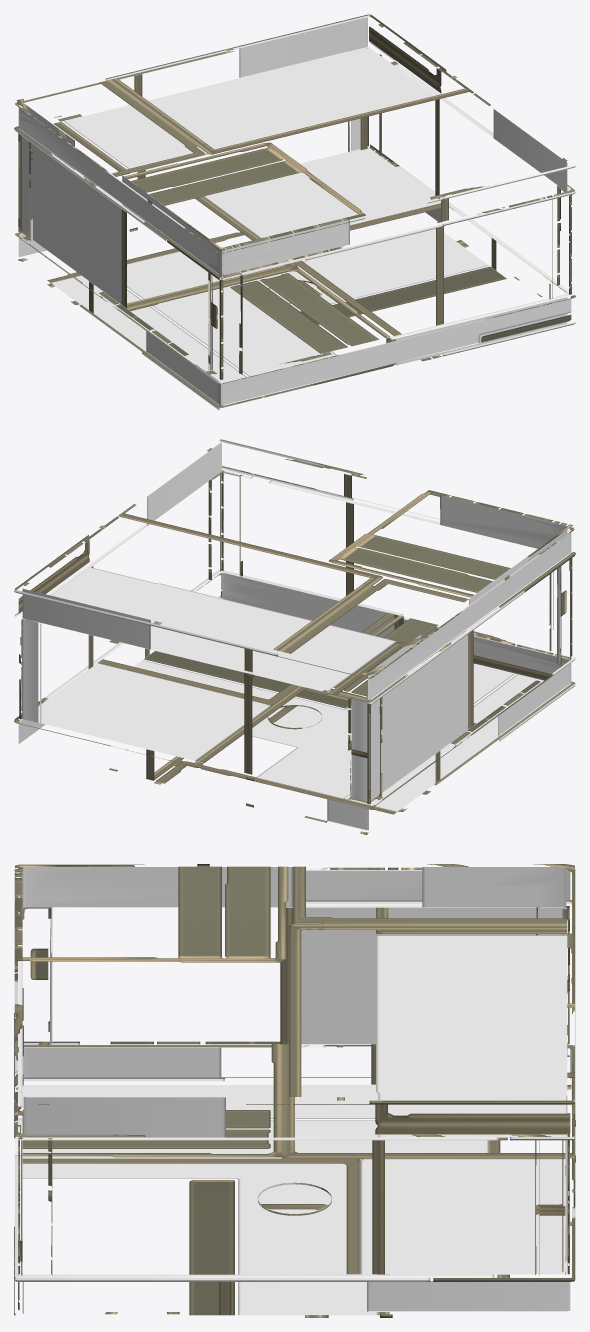
Rendered from raw_model.obj.
3 views of the same model, one above another, from view 1: azimuth 30°, elevation 25°; view 2: azimuth 150°, elevation 25°; view 3: azimuth 270°, elevation 25° (orthographic). The views are drawn at different scales.
Parts seen in each view (by area): view 1: solid_002, solid_001; view 2: solid_002, solid_001; view 3: solid_002, solid_001.
Part boxes in pixels (x1,y1,x2,y2): solid_002: (21, 47, 506, 407); solid_001: (14, 14, 575, 410); solid_002: (22, 492, 543, 814); solid_001: (14, 439, 575, 834); solid_002: (22, 866, 567, 1315); solid_001: (14, 864, 575, 1317).
Size of the model in its own units: 0.42 by 0.1971 by 0.42.
Materials: 1 (1 with a texture image).
